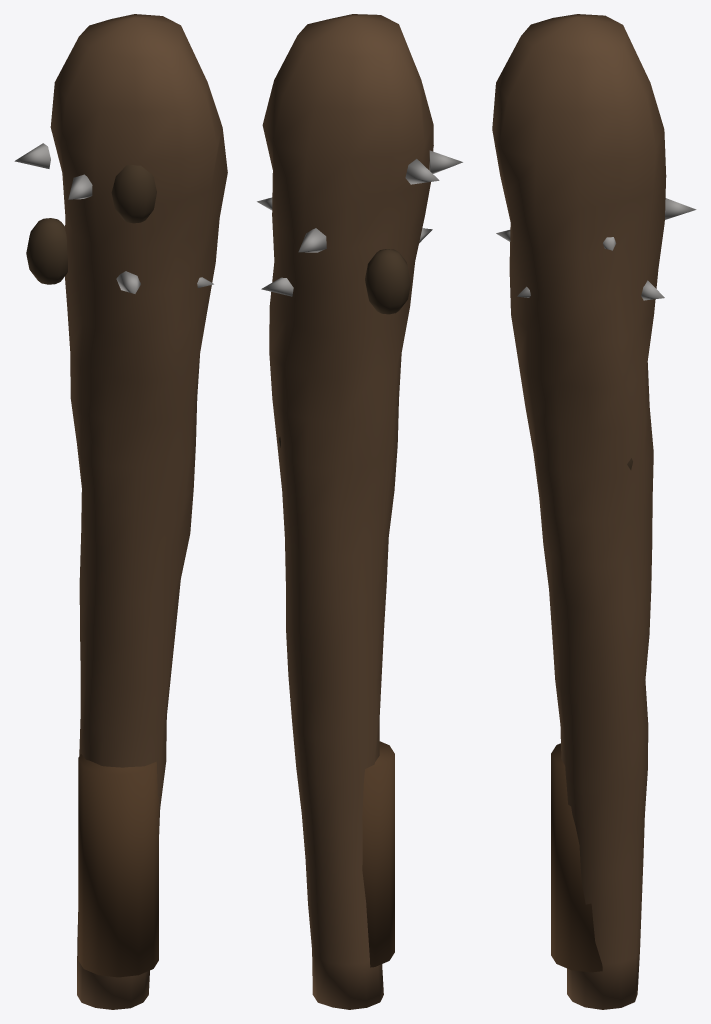
File: club.glb
The picture shows the model from 3 angles, left to right: view 1: azimuth 30°, elevation 25°; view 2: azimuth 150°, elevation 25°; view 3: azimuth 270°, elevation 25°; orthographic projection.
Visible parts, largest first — view 1: Club; view 2: Club; view 3: Club.
Part boxes in pixels (box(x1,y1,x2,y2)): Club: box(14, 14, 227, 1009); Club: box(257, 14, 462, 1009); Club: box(492, 14, 696, 1009).
Bounding box in the file's own units: 0.1245 × 0.632 × 0.1194.
